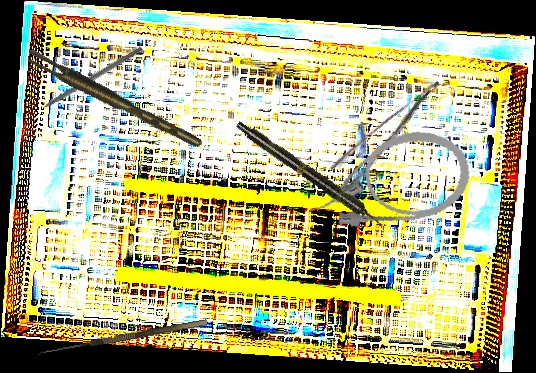Cannula: (299, 123, 477, 239)
Dressing Forceps: (327, 78, 457, 191)
Handpiece: (233, 117, 388, 233)
Hook Surgical: (27, 44, 144, 119), (36, 319, 210, 365)
Tissue Forceps: (23, 42, 204, 158)
